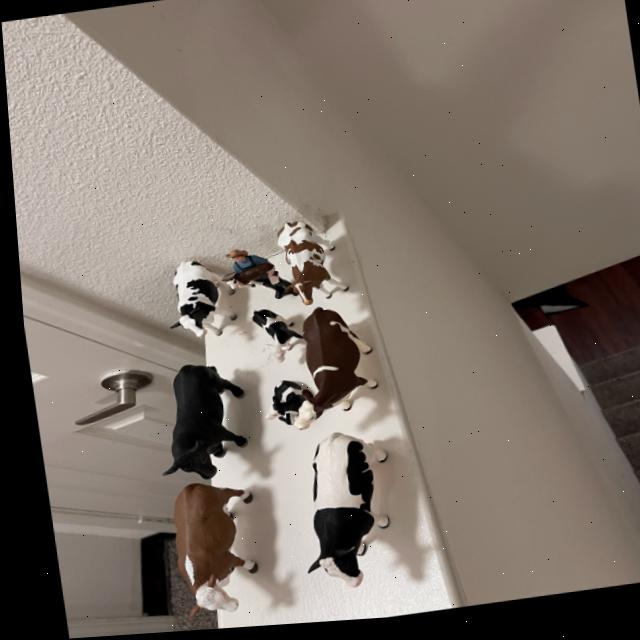cow: (247, 302, 375, 437), (281, 432, 382, 592), (162, 481, 251, 618), (155, 364, 249, 487), (267, 214, 344, 312), (166, 262, 234, 342), (235, 302, 300, 367), (252, 377, 308, 436), (215, 262, 272, 294)
person: (222, 245, 264, 276)
